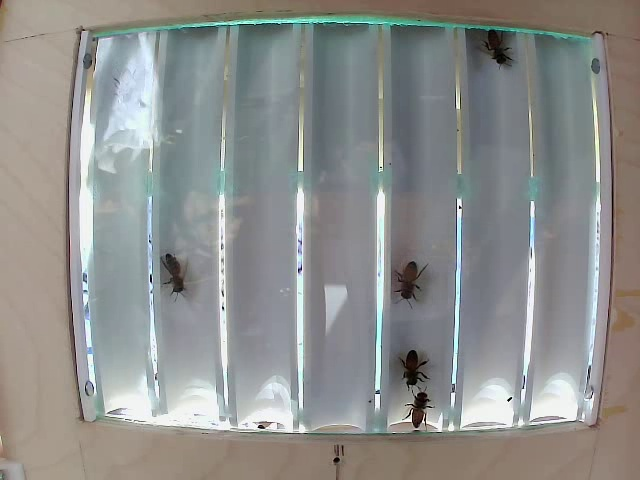bee: (473, 20, 519, 90), (393, 256, 427, 308), (400, 381, 438, 427), (155, 246, 196, 286), (398, 330, 425, 387)
